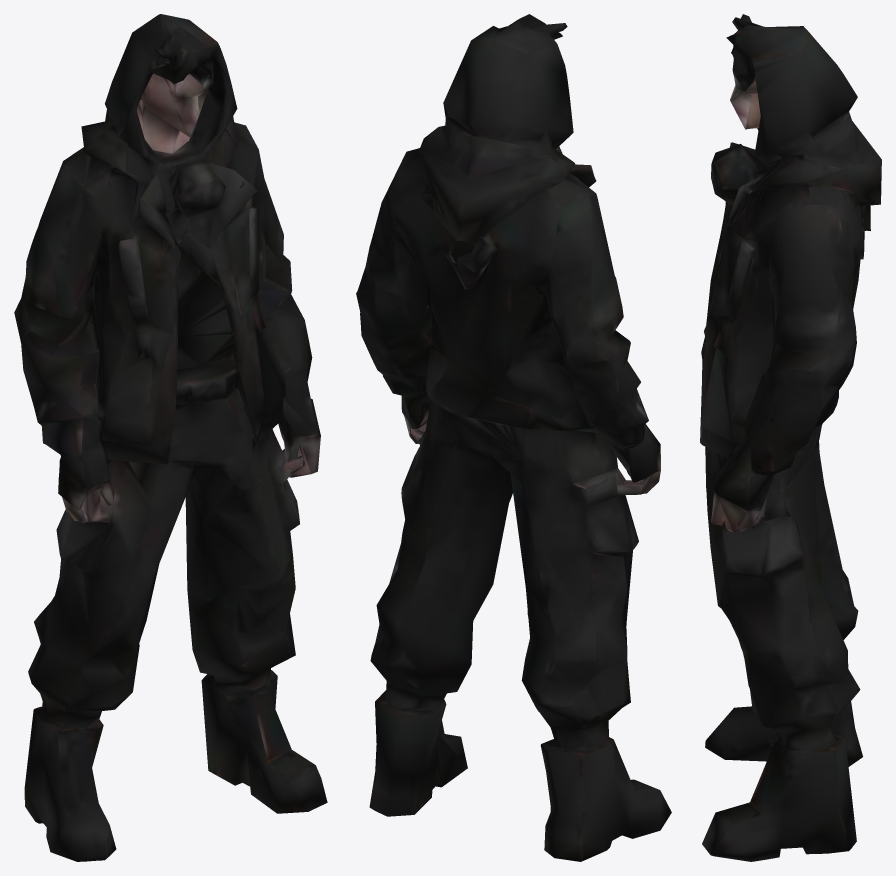
File: trellis-npc.glb
3 views of the same model, side by side, from view 1: azimuth 30°, elevation 25°; view 2: azimuth 150°, elevation 25°; view 3: azimuth 270°, elevation 25° (orthographic).
Visible parts, largest first — view 1: world; view 2: world; view 3: world.
Part boxes in pixels (bbox=[...]): world: bbox=[14, 14, 327, 861]; world: bbox=[356, 14, 671, 861]; world: bbox=[700, 14, 881, 861].
Size of the model in its own units: 0.3628 by 1 by 0.213.
Materials: 1 (1 with a texture image).
